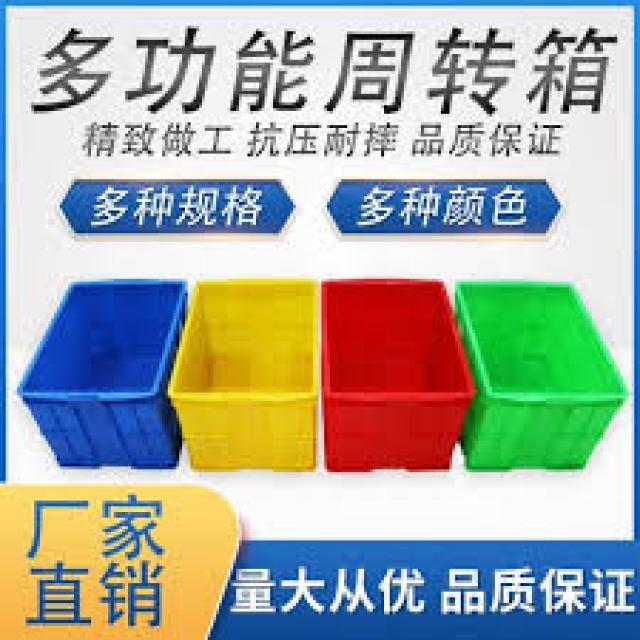basket: (17, 276, 188, 471), (458, 282, 630, 472), (324, 280, 476, 472), (171, 279, 319, 472)
